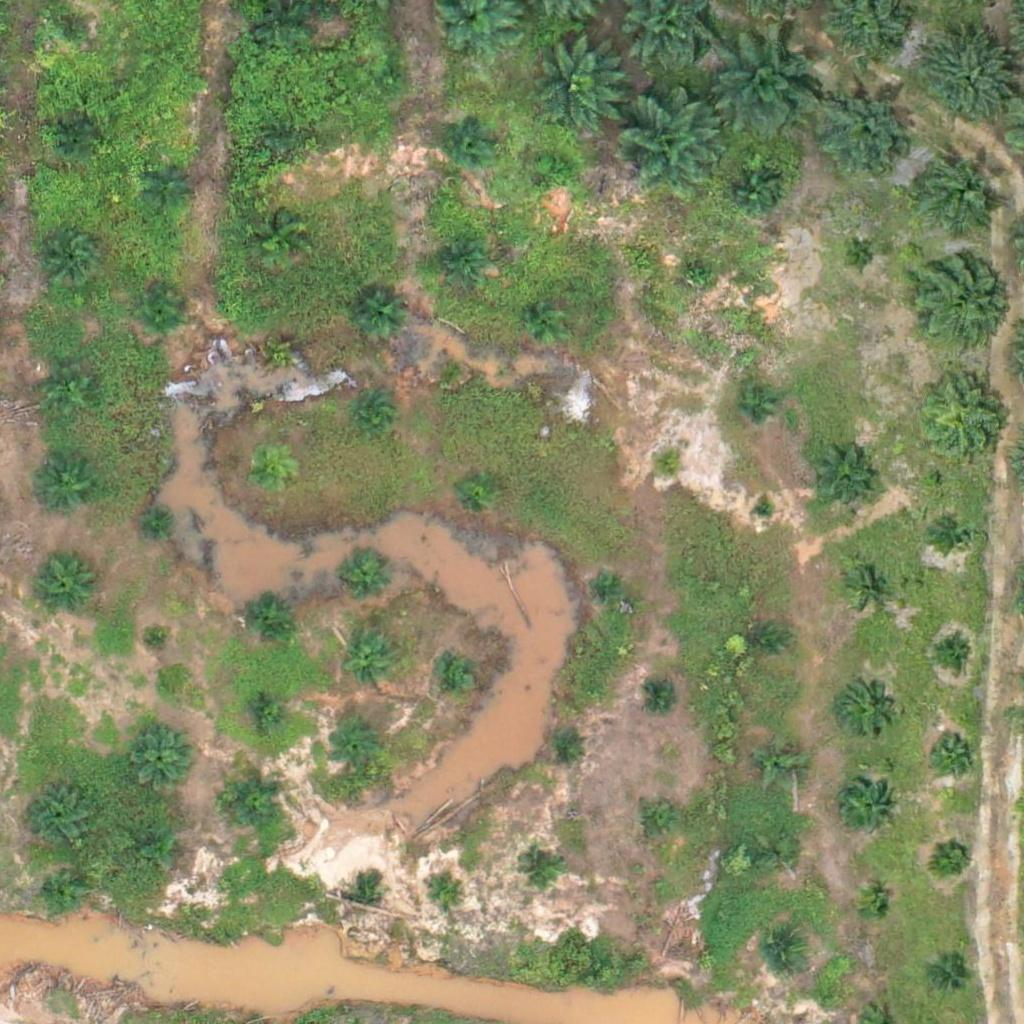Kelapa_Sawit: (713, 31, 826, 144), (918, 33, 1018, 134), (907, 142, 1007, 243), (909, 248, 1009, 349), (914, 369, 1014, 470), (620, 96, 720, 197), (523, 36, 623, 136), (822, 87, 909, 176), (29, 442, 104, 518), (809, 450, 872, 513), (42, 224, 105, 287), (34, 554, 97, 616), (126, 721, 189, 783), (836, 777, 898, 840), (32, 780, 94, 843), (227, 772, 289, 834), (253, 213, 303, 264), (350, 293, 400, 344), (245, 450, 295, 501), (340, 551, 390, 602), (728, 164, 778, 215), (46, 115, 96, 166), (839, 680, 889, 731), (755, 737, 805, 788), (146, 159, 196, 210), (258, 322, 308, 373), (45, 373, 95, 423), (238, 590, 288, 640), (345, 635, 395, 685), (331, 721, 381, 771), (45, 8, 95, 58), (260, 2, 310, 52), (928, 727, 978, 777), (434, 238, 484, 288), (447, 115, 497, 165), (38, 864, 88, 914), (126, 827, 176, 877), (745, 622, 783, 660), (139, 503, 177, 541), (537, 150, 575, 188), (528, 301, 566, 339), (680, 257, 718, 295), (842, 238, 880, 276), (648, 447, 686, 485), (250, 692, 288, 730), (939, 516, 977, 554), (143, 290, 181, 327), (438, 659, 475, 697), (855, 889, 893, 926), (933, 633, 970, 671), (851, 566, 888, 604), (645, 677, 683, 714), (521, 852, 558, 890), (762, 835, 800, 872), (935, 837, 972, 875), (266, 117, 303, 155), (371, 62, 408, 100), (732, 386, 769, 424), (429, 347, 466, 385), (140, 617, 177, 655), (425, 876, 462, 914), (355, 397, 392, 434), (931, 961, 968, 998), (763, 933, 800, 970), (543, 725, 580, 762), (640, 803, 677, 840), (460, 470, 497, 507), (591, 568, 628, 605), (348, 882, 373, 908), (751, 496, 776, 521)
